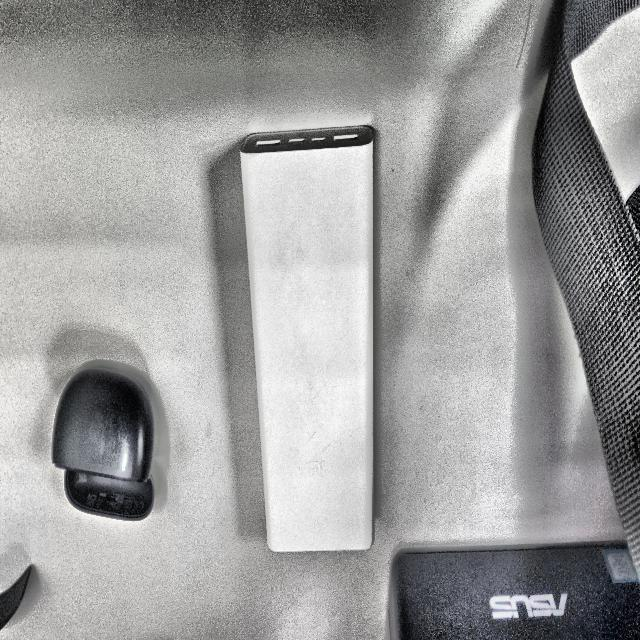Bluetooth headphones: (52, 367, 155, 520)
Power bank: (241, 127, 373, 552)
